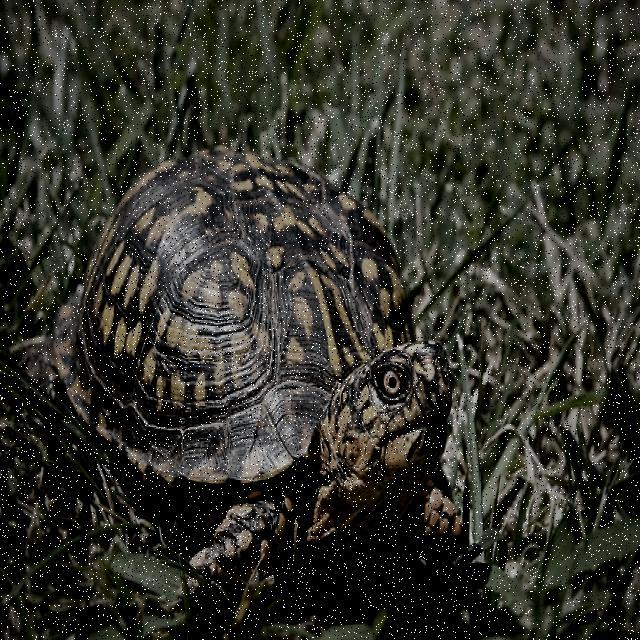tortoise: (62, 143, 464, 602)
